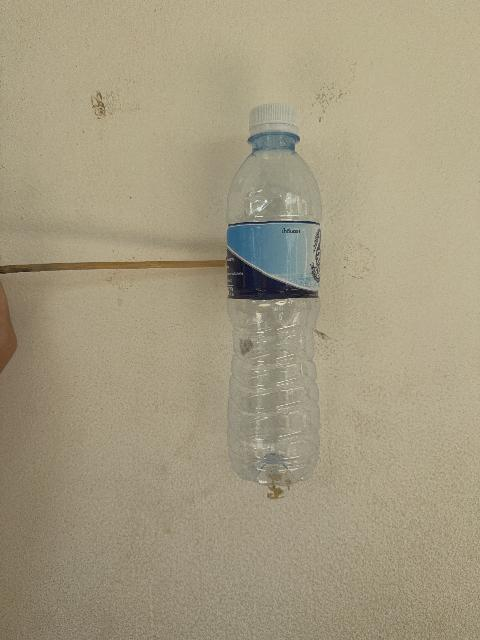bottle: (227, 104, 321, 485)
